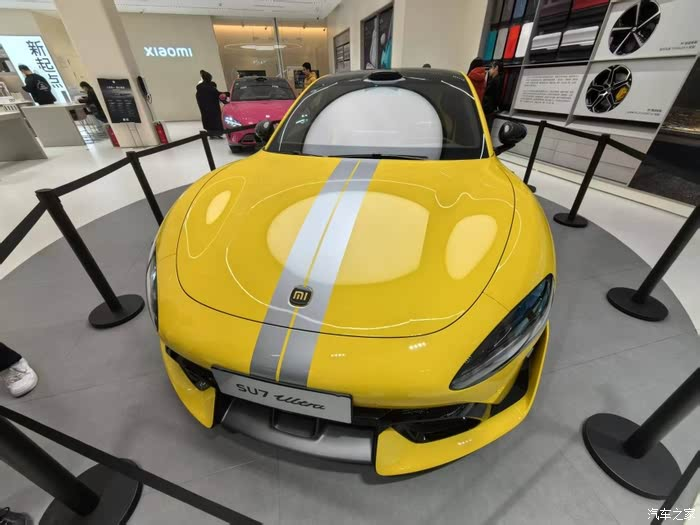su7: (143, 67, 548, 483), (221, 71, 303, 145)
